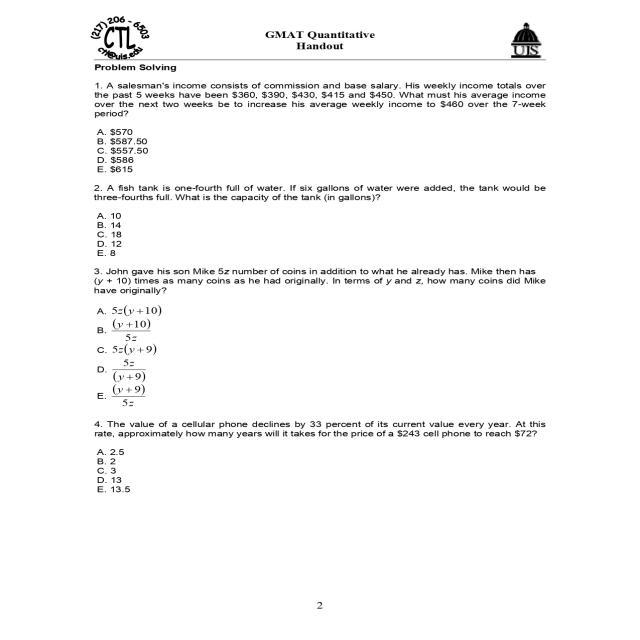Answer_Block: (58, 303, 617, 412), (54, 120, 616, 172), (62, 210, 615, 260), (53, 448, 624, 496)
Question_Answer_Block: (57, 265, 620, 413), (55, 74, 617, 172), (55, 418, 620, 495), (62, 185, 615, 258)
Question_Block: (54, 77, 616, 120), (55, 263, 624, 303), (49, 414, 620, 449), (66, 182, 614, 211)
Question_Paper_Area: (57, 14, 617, 512)
